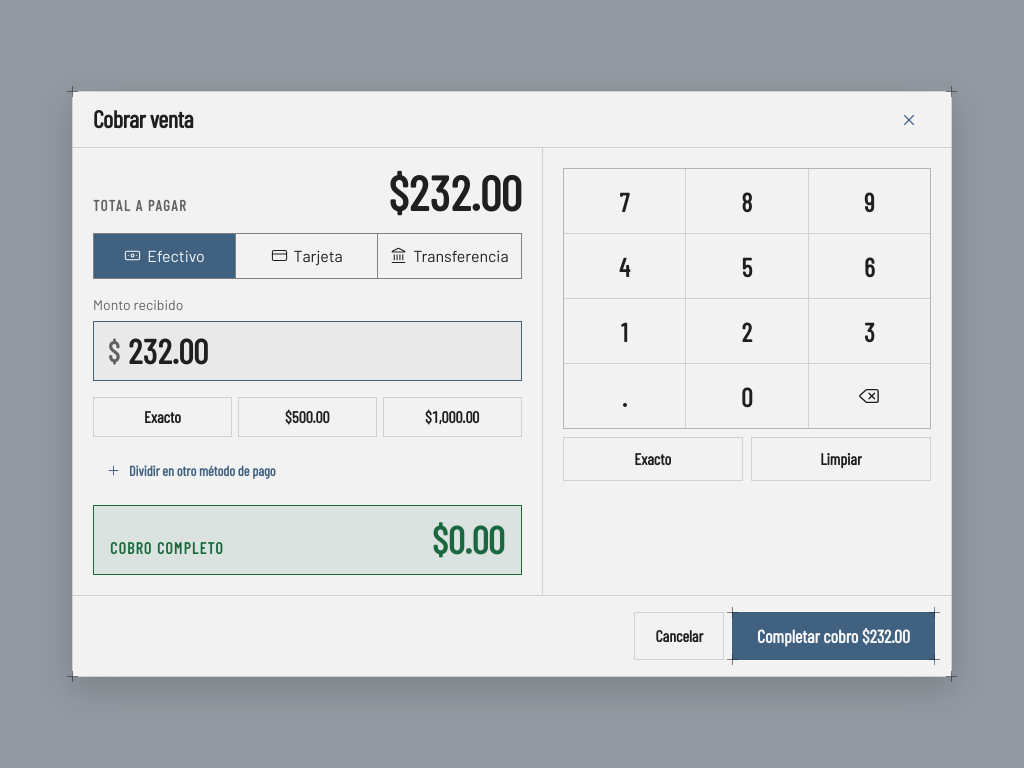
it: PaymentModal: monto, teclado y cambio › monto insuficiente: 'Falta por cobrar' y no deja completar
Click the button "Limpiar" at x=841, y=459, box [751, 437, 931, 481]
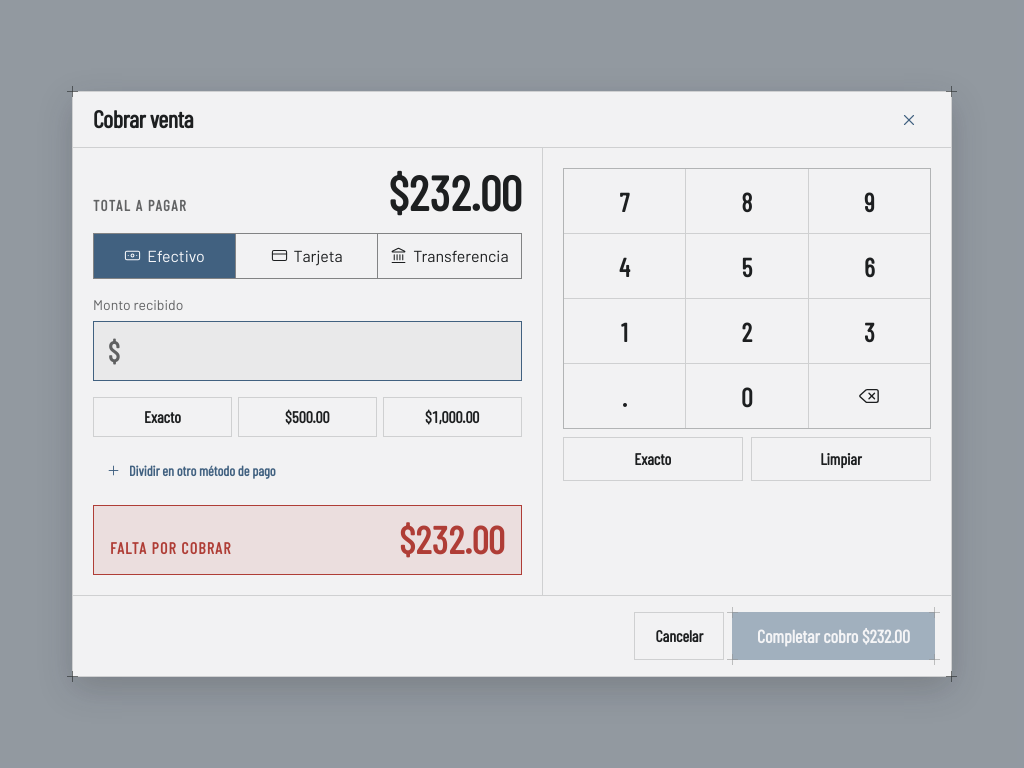
Click the button "1" at x=624, y=331, box [564, 299, 685, 363]
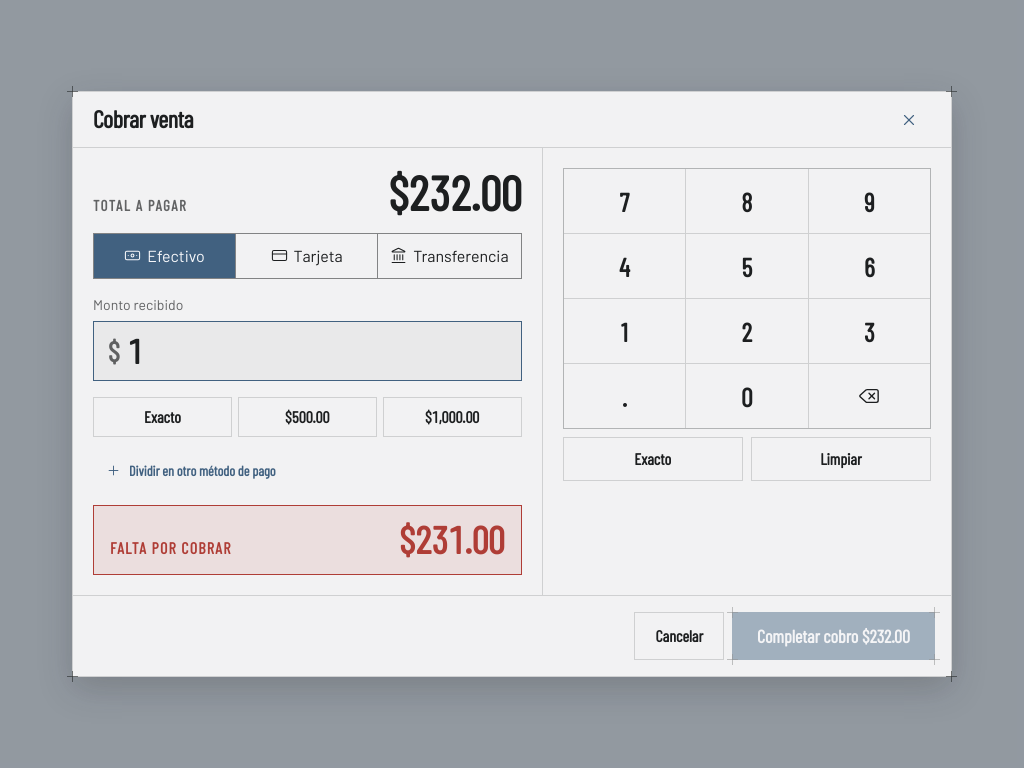
Click the button "0" at x=747, y=396, box [686, 364, 808, 428]
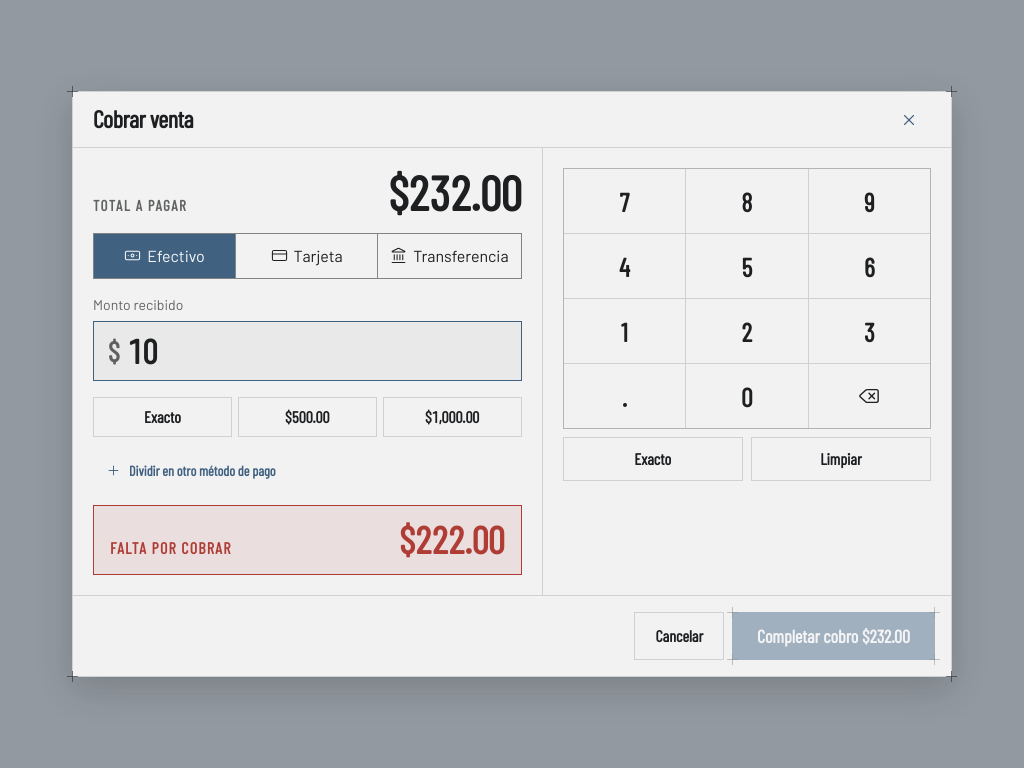
Click the button "0" at x=747, y=396, box [686, 364, 808, 428]
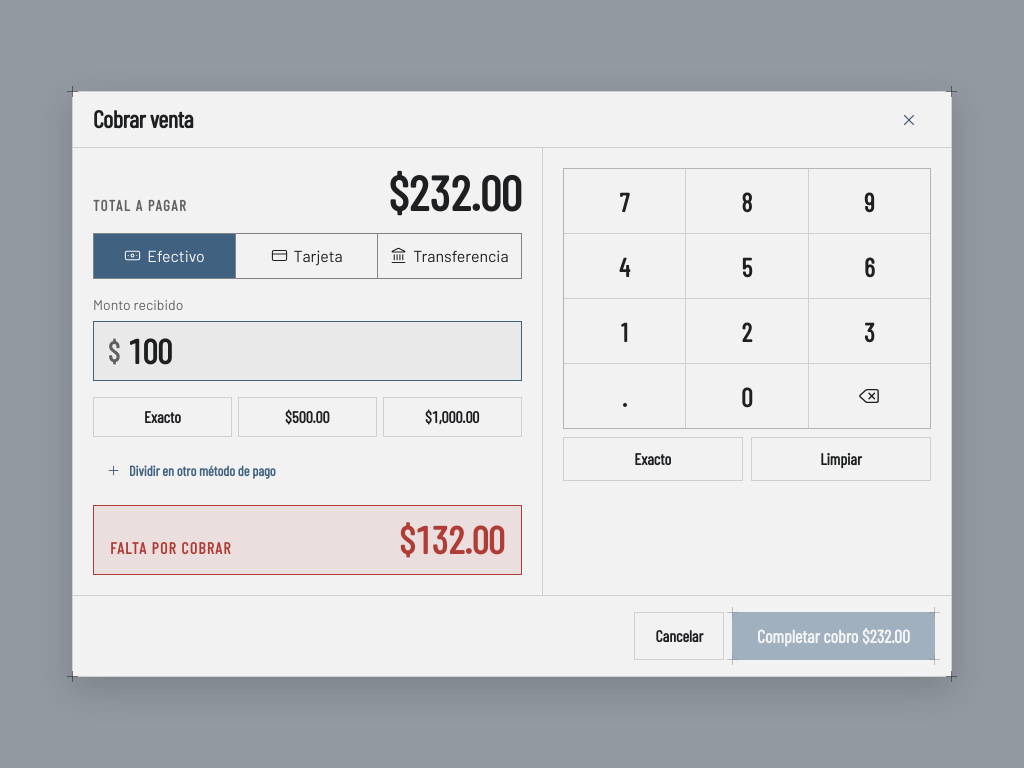
Expected: the button "Completar cobro $232.00" is disabled, [732, 612, 935, 660]
Expected: the message reads "Falta por cobrar $132.00", [93, 505, 522, 575]
